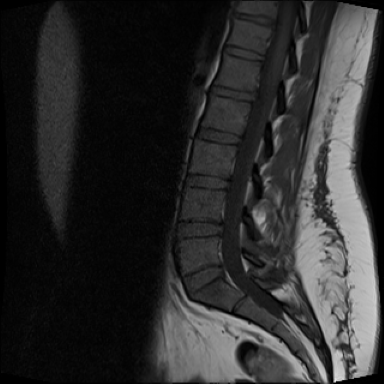Degenerative Disc Disease (DDD): (207, 78, 262, 108), (233, 6, 279, 31)
Normal IVD: (176, 258, 228, 302), (192, 118, 249, 151), (172, 215, 227, 241), (184, 170, 234, 193), (221, 42, 269, 64)
